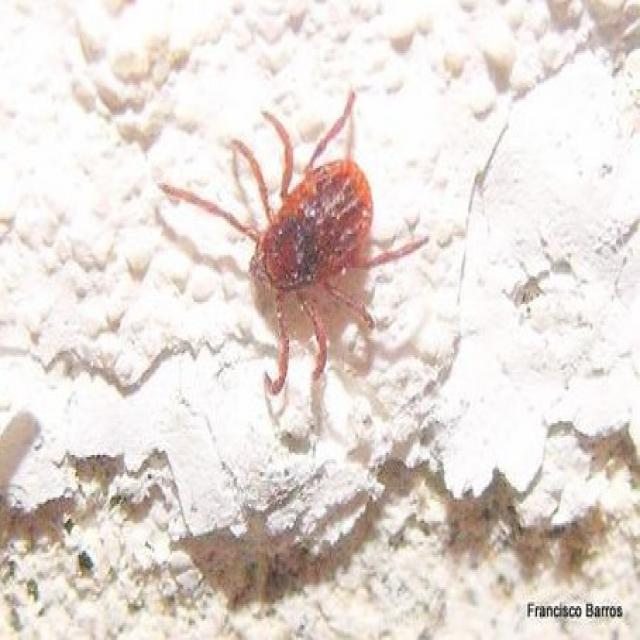Rhipicephalus Sanguineus-F: (185, 91, 430, 436)
